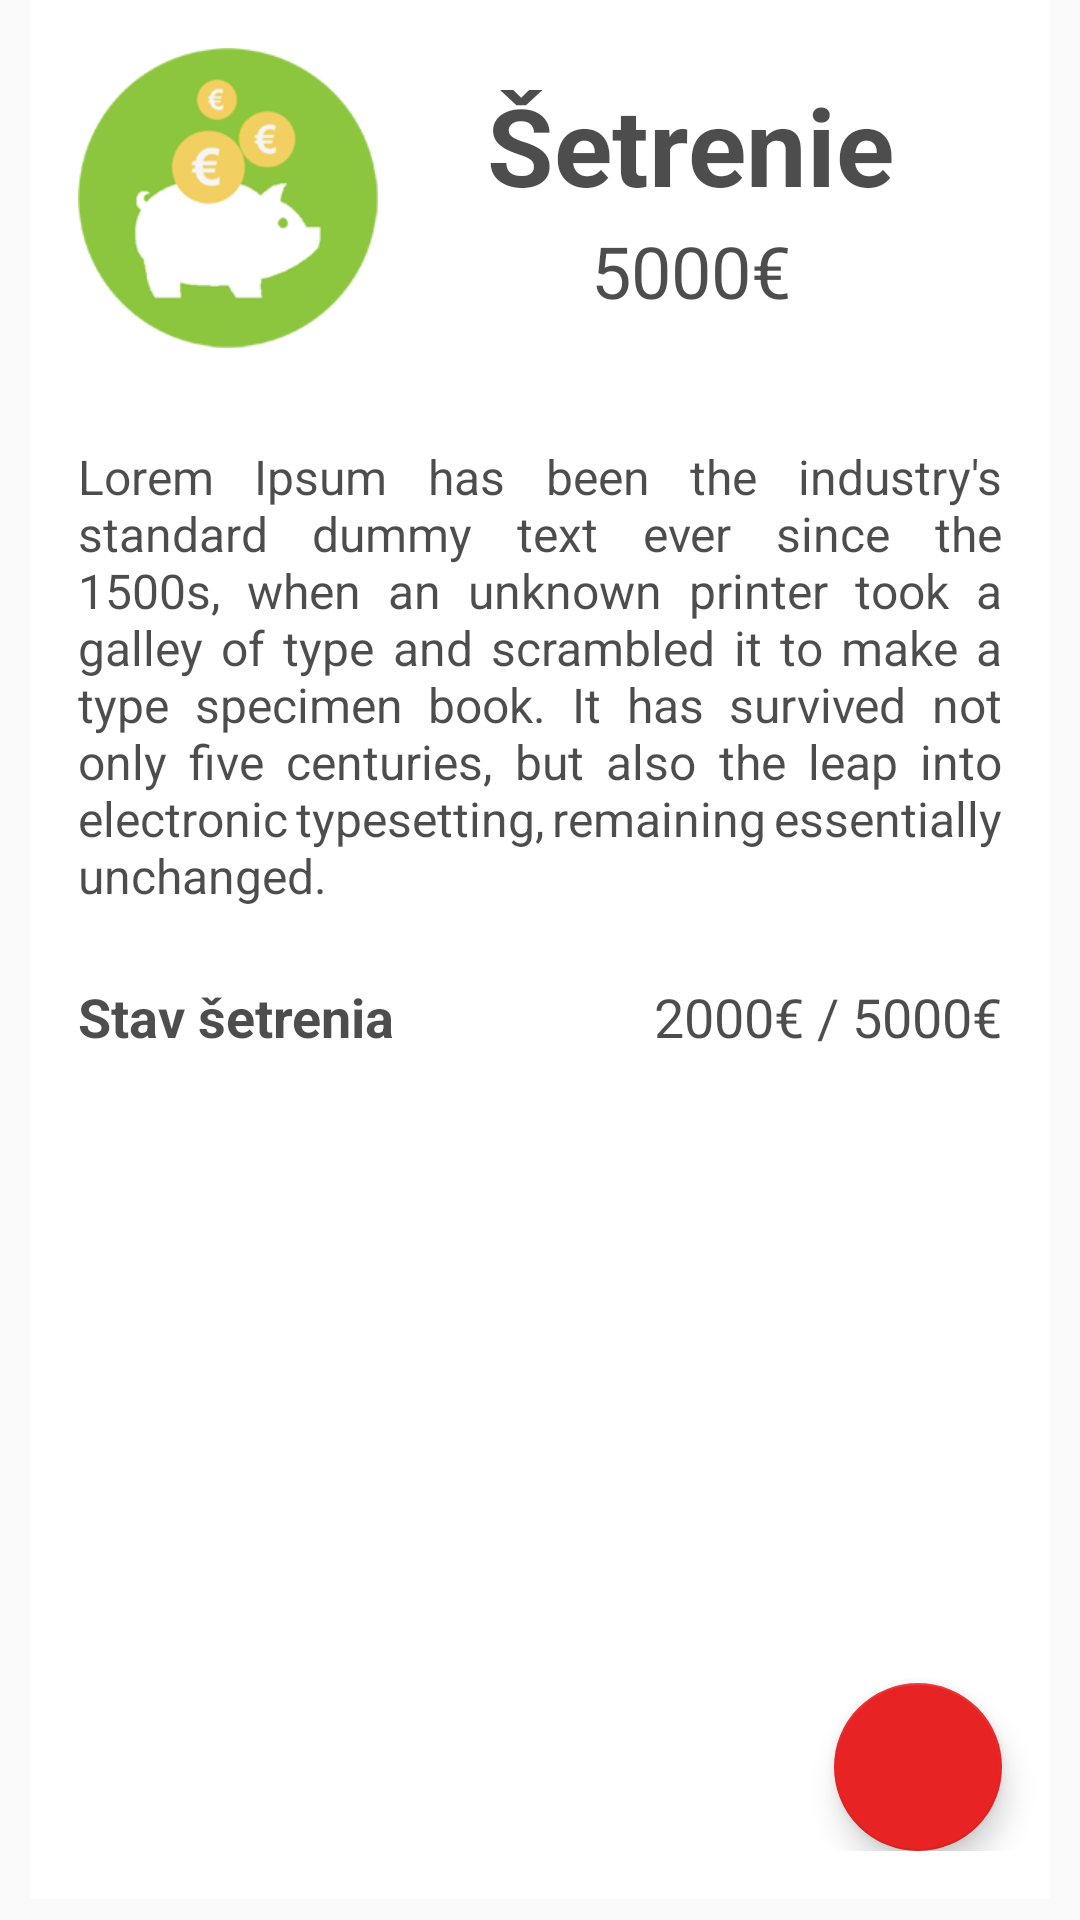

Where icons sit on this 1080 × 1920 app screen, as [x1=x1, y1=y1, x2=x2, y2=y2]:
setrenie: [x1=78, y1=48, x2=378, y2=348]
